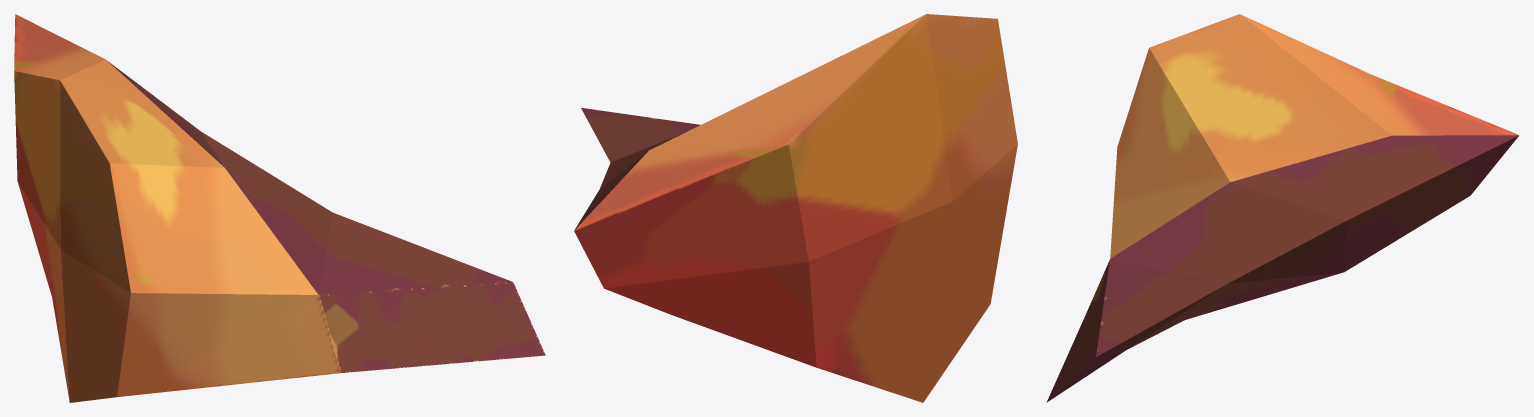
Rendered from Grips2_002Broken.fbx.
The picture shows the model from 3 angles, left to right: view 1: azimuth 30°, elevation 25°; view 2: azimuth 150°, elevation 25°; view 3: azimuth 270°, elevation 25°; orthographic projection. The views are drawn at different scales.
Parts seen in each view (by area): view 1: Grips2_002Broken; view 2: Grips2_002Broken; view 3: Grips2_002Broken.
Boxes of the visible parts, x1,y1,x2,y2 form: Grips2_002Broken: (14,14,545,402); Grips2_002Broken: (574,14,1017,402); Grips2_002Broken: (1046,14,1519,402).
Bounding box in the file's own units: 1.97 × 1.54 × 1.24.
Materials: 1 (1 with a texture image).
